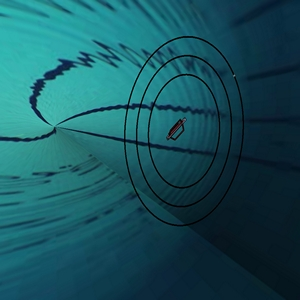circle: (115, 24, 249, 248)
submarine: (162, 110, 197, 166)
